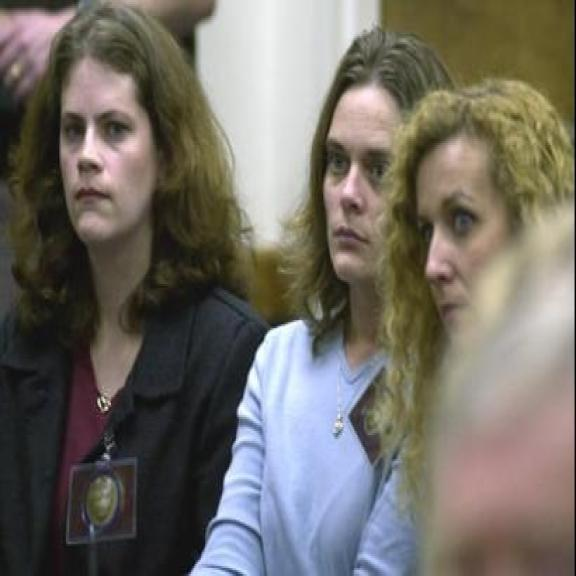face: (49, 47, 175, 248), (411, 131, 527, 349), (324, 70, 404, 290)
